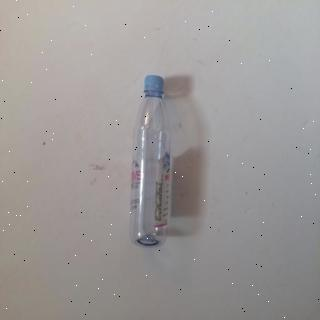Plastic-bottle: (130, 74, 175, 252)
